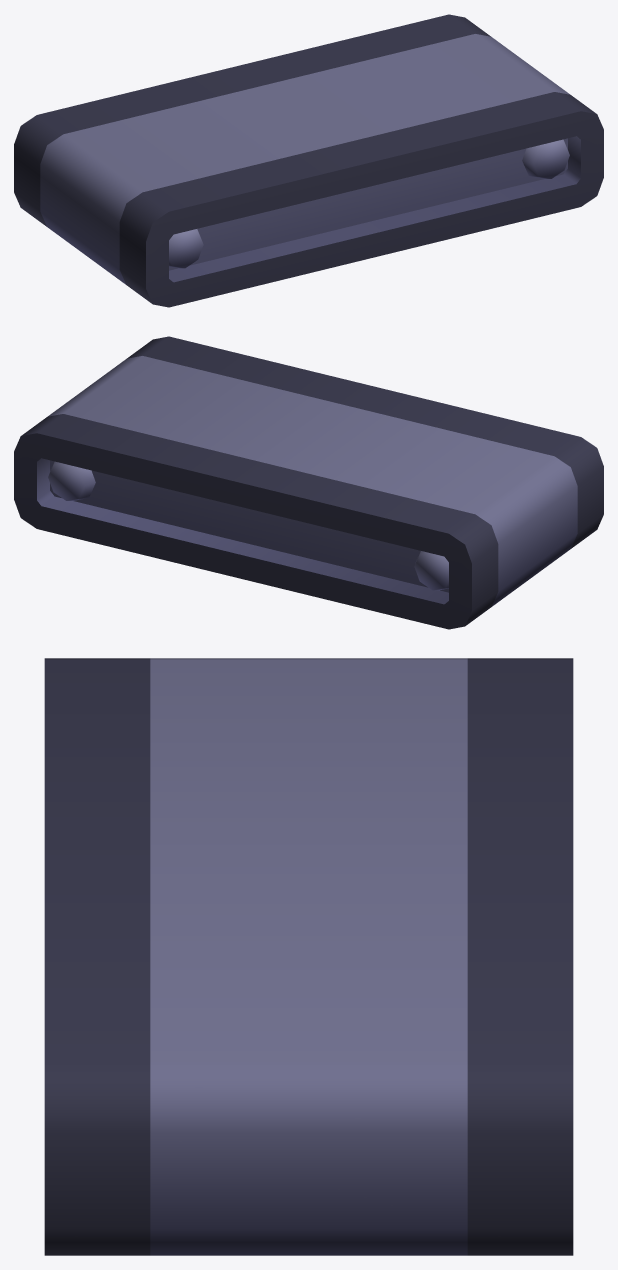
The model's file is conveyor-long-stripe.glb.
3 renders of one model, top to bottom at view 1: azimuth 30°, elevation 25°; view 2: azimuth 150°, elevation 25°; view 3: azimuth 270°, elevation 25°, orthographic. The views are drawn at different scales.
Visible parts, largest first — view 1: conveyor-long-stripe; view 2: conveyor-long-stripe; view 3: conveyor-long-stripe.
Boxes of the visible parts, box(x1,y1,x2,y2) form: conveyor-long-stripe: box(14, 14, 603, 307); conveyor-long-stripe: box(14, 336, 603, 629); conveyor-long-stripe: box(44, 658, 573, 1255).
Bounding box in the file's own units: 2 × 0.4 × 1.
